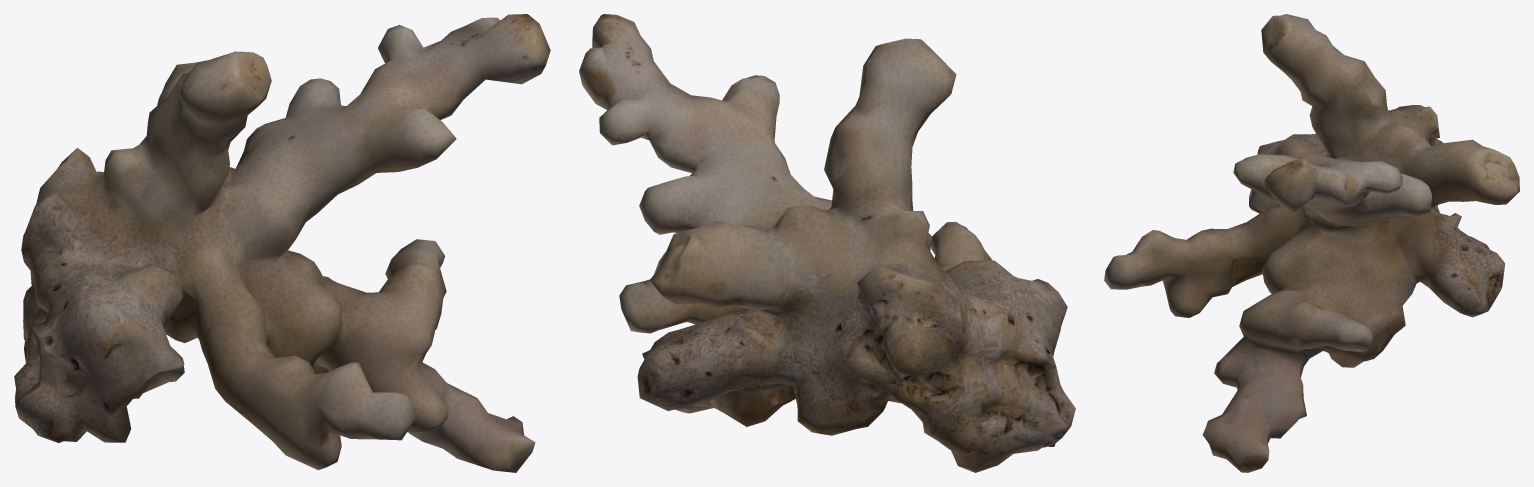
The model's file is scan_coral_finger.glb.
3 views of the same model, side by side, from view 1: azimuth 30°, elevation 25°; view 2: azimuth 150°, elevation 25°; view 3: azimuth 270°, elevation 25° (orthographic). The views are drawn at different scales.
Visible parts, largest first — view 1: scan_coral_finger; view 2: scan_coral_finger; view 3: scan_coral_finger.
Part boxes in pixels (x1,y1,x2,y2): scan_coral_finger: (14,14,550,472); scan_coral_finger: (579,14,1075,472); scan_coral_finger: (1104,14,1519,472).
Size of the model in its own units: 0.6987 by 0.6075 by 0.6332.
Materials: 1 (1 with a texture image).
